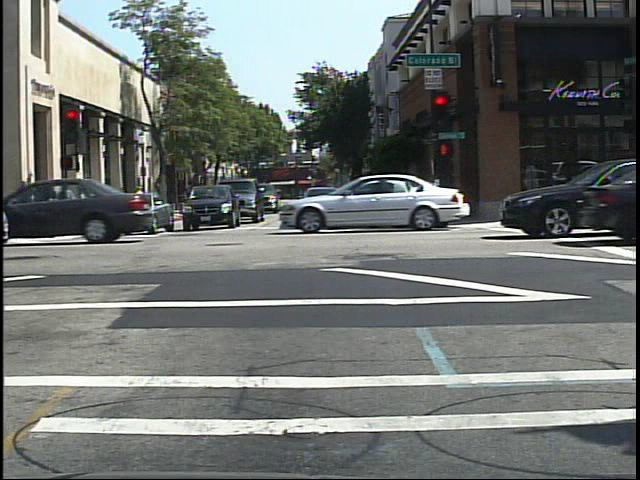person: (130, 181, 149, 219), (136, 181, 151, 216)
